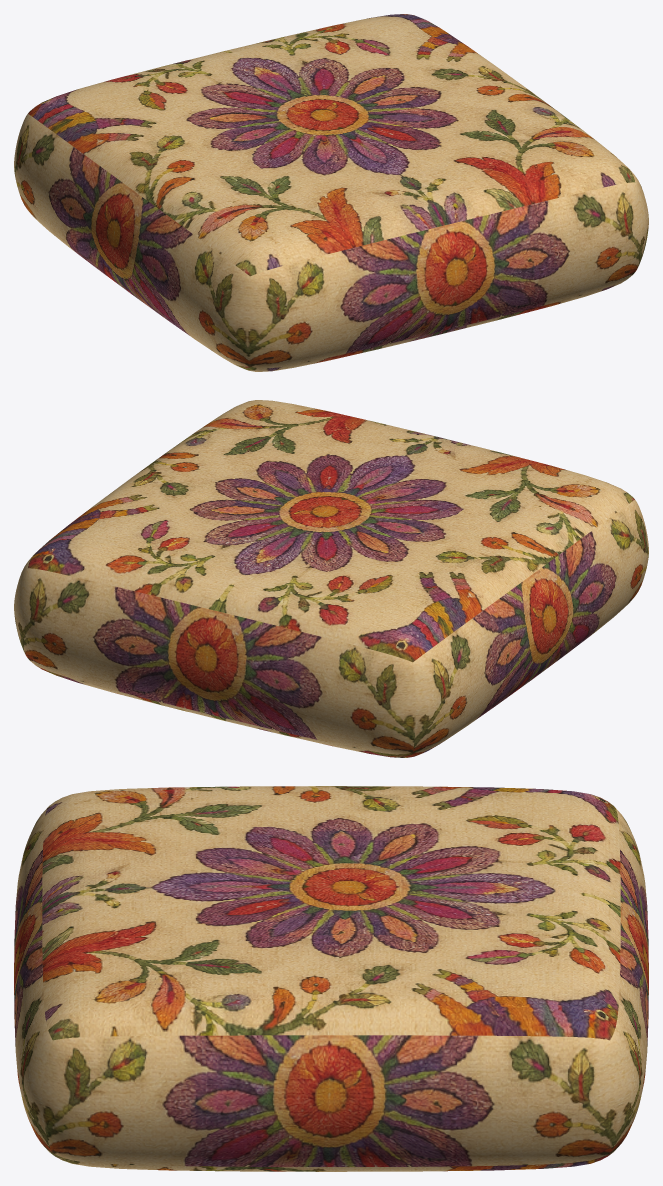
Rendered from coussin-creme.glb.
The picture shows the model from 3 angles, top to bottom: view 1: azimuth 30°, elevation 25°; view 2: azimuth 150°, elevation 25°; view 3: azimuth 270°, elevation 25°; orthographic projection. The views are drawn at different scales.
Parts seen in each view (by area): view 1: Cube; view 2: Cube; view 3: Cube.
Part boxes in pixels (x1,y1,x2,y2): Cube: (14, 14, 648, 371); Cube: (14, 400, 648, 757); Cube: (14, 786, 648, 1171).
Bounding box in the file's own units: 0.4984 × 0.1584 × 0.4984.
1 material, 1 textured.
